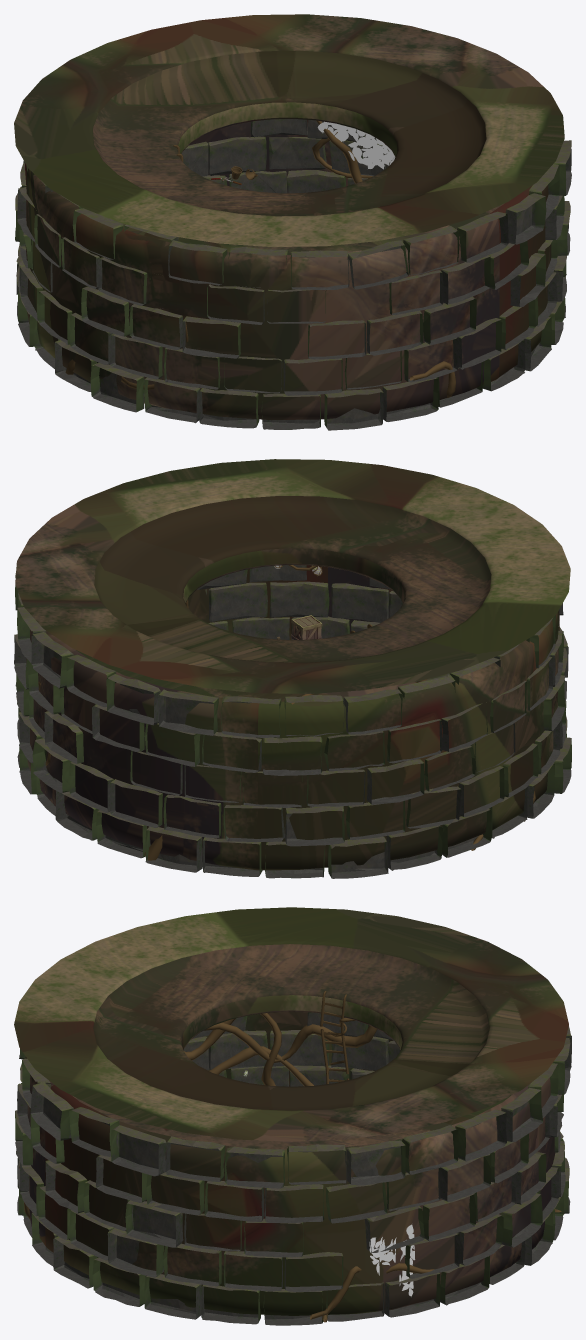
File: sotano.fbx
The picture shows the model from 3 angles, top to bottom: view 1: azimuth 30°, elevation 25°; view 2: azimuth 150°, elevation 25°; view 3: azimuth 270°, elevation 25°; orthographic projection.
Visible parts, largest first — view 1: pared, piedras, ivy, Enredaderas.004; view 2: pared, piedras, caja.001; view 3: pared, piedras, Enredaderas.006, Enredaderas.008, ivy, escalera, Enredaderas.007.
Part boxes in pixels (bbox=[...]): pared: bbox=[14, 14, 564, 420]; piedras: bbox=[15, 119, 571, 430]; ivy: bbox=[317, 121, 395, 169]; Enredaderas.004: bbox=[316, 120, 362, 183]; pared: bbox=[15, 459, 570, 870]; piedras: bbox=[14, 565, 571, 878]; caja.001: bbox=[291, 615, 322, 639]; pared: bbox=[14, 907, 568, 1315]; piedras: bbox=[15, 1012, 571, 1325]; Enredaderas.006: bbox=[204, 1022, 377, 1062]; Enredaderas.008: bbox=[183, 1013, 281, 1085]; ivy: bbox=[369, 1224, 415, 1296]; escalera: bbox=[320, 991, 349, 1084]; Enredaderas.007: bbox=[209, 1046, 313, 1086].
Size of the model in its own units: 5037 by 1952 by 5052.
